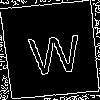W: (25, 25, 84, 77)
